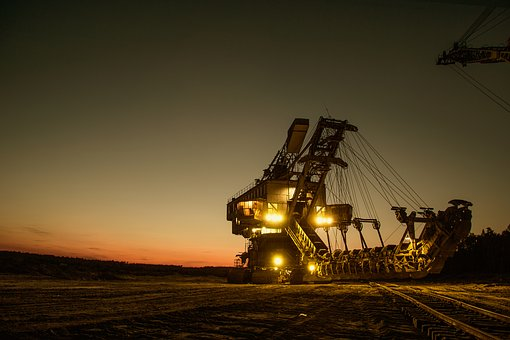excavator: (222, 117, 478, 287)
